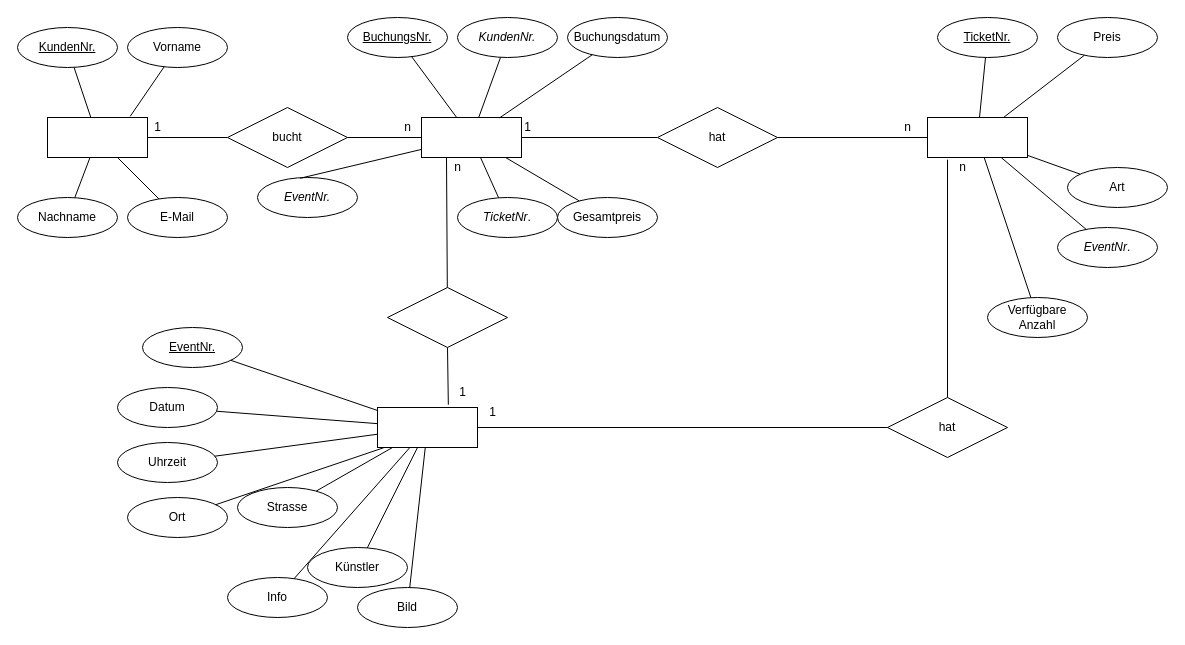
Image size: 1185x645. Some labels were removed from this diagram. Here are the shapes that lost their labels. From the top down, the box of each, then its label:
(46, 116, 148, 158): Kunde
(420, 116, 522, 158): Buchung
(926, 116, 1028, 158): Ticket
(386, 286, 508, 348): beinhaltet
(376, 406, 478, 448): Event
